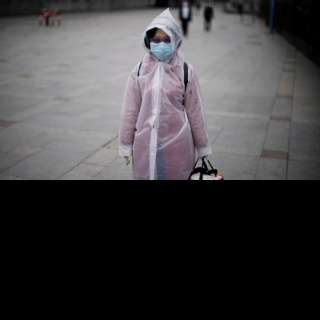with_mask: (148, 32, 173, 61)
